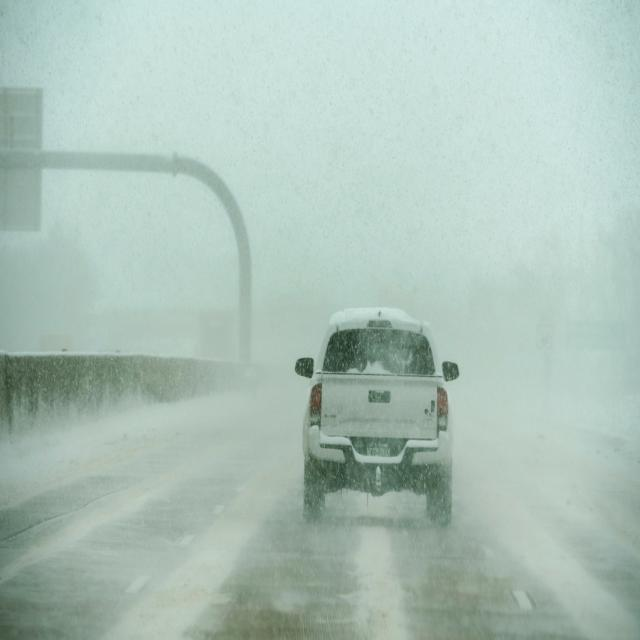car: (298, 306, 454, 524)
